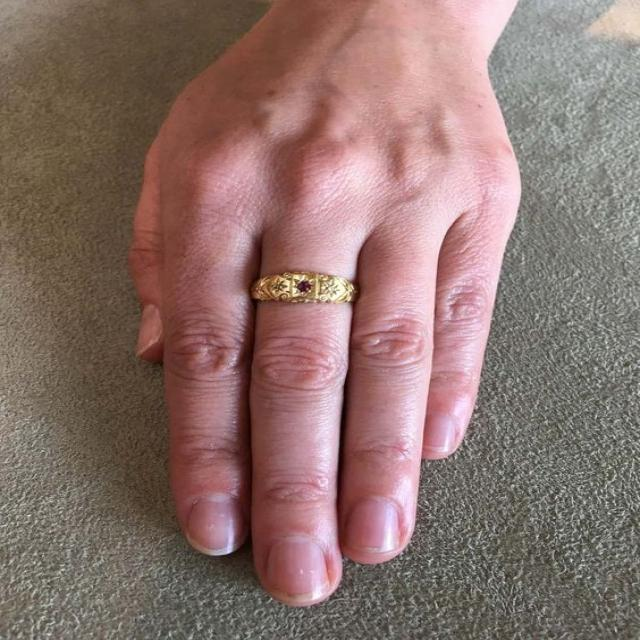Fingernail: (264, 533, 332, 607), (185, 494, 246, 557), (347, 497, 404, 555), (426, 414, 457, 456), (137, 302, 160, 355)
